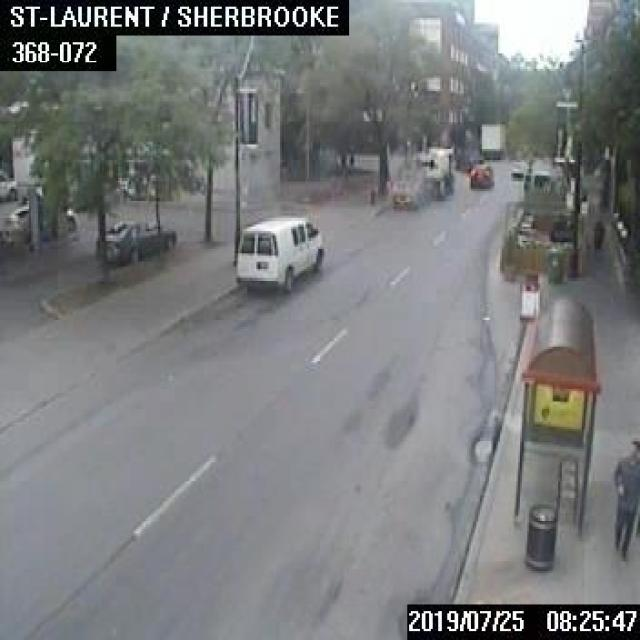pedestrian: (612, 440, 638, 554), (593, 216, 604, 248)
vehicle: (232, 214, 324, 290), (94, 218, 175, 262), (0, 202, 75, 244), (418, 146, 452, 193), (390, 176, 421, 206), (479, 122, 504, 158), (468, 162, 493, 188), (0, 169, 16, 198), (510, 160, 523, 176)
